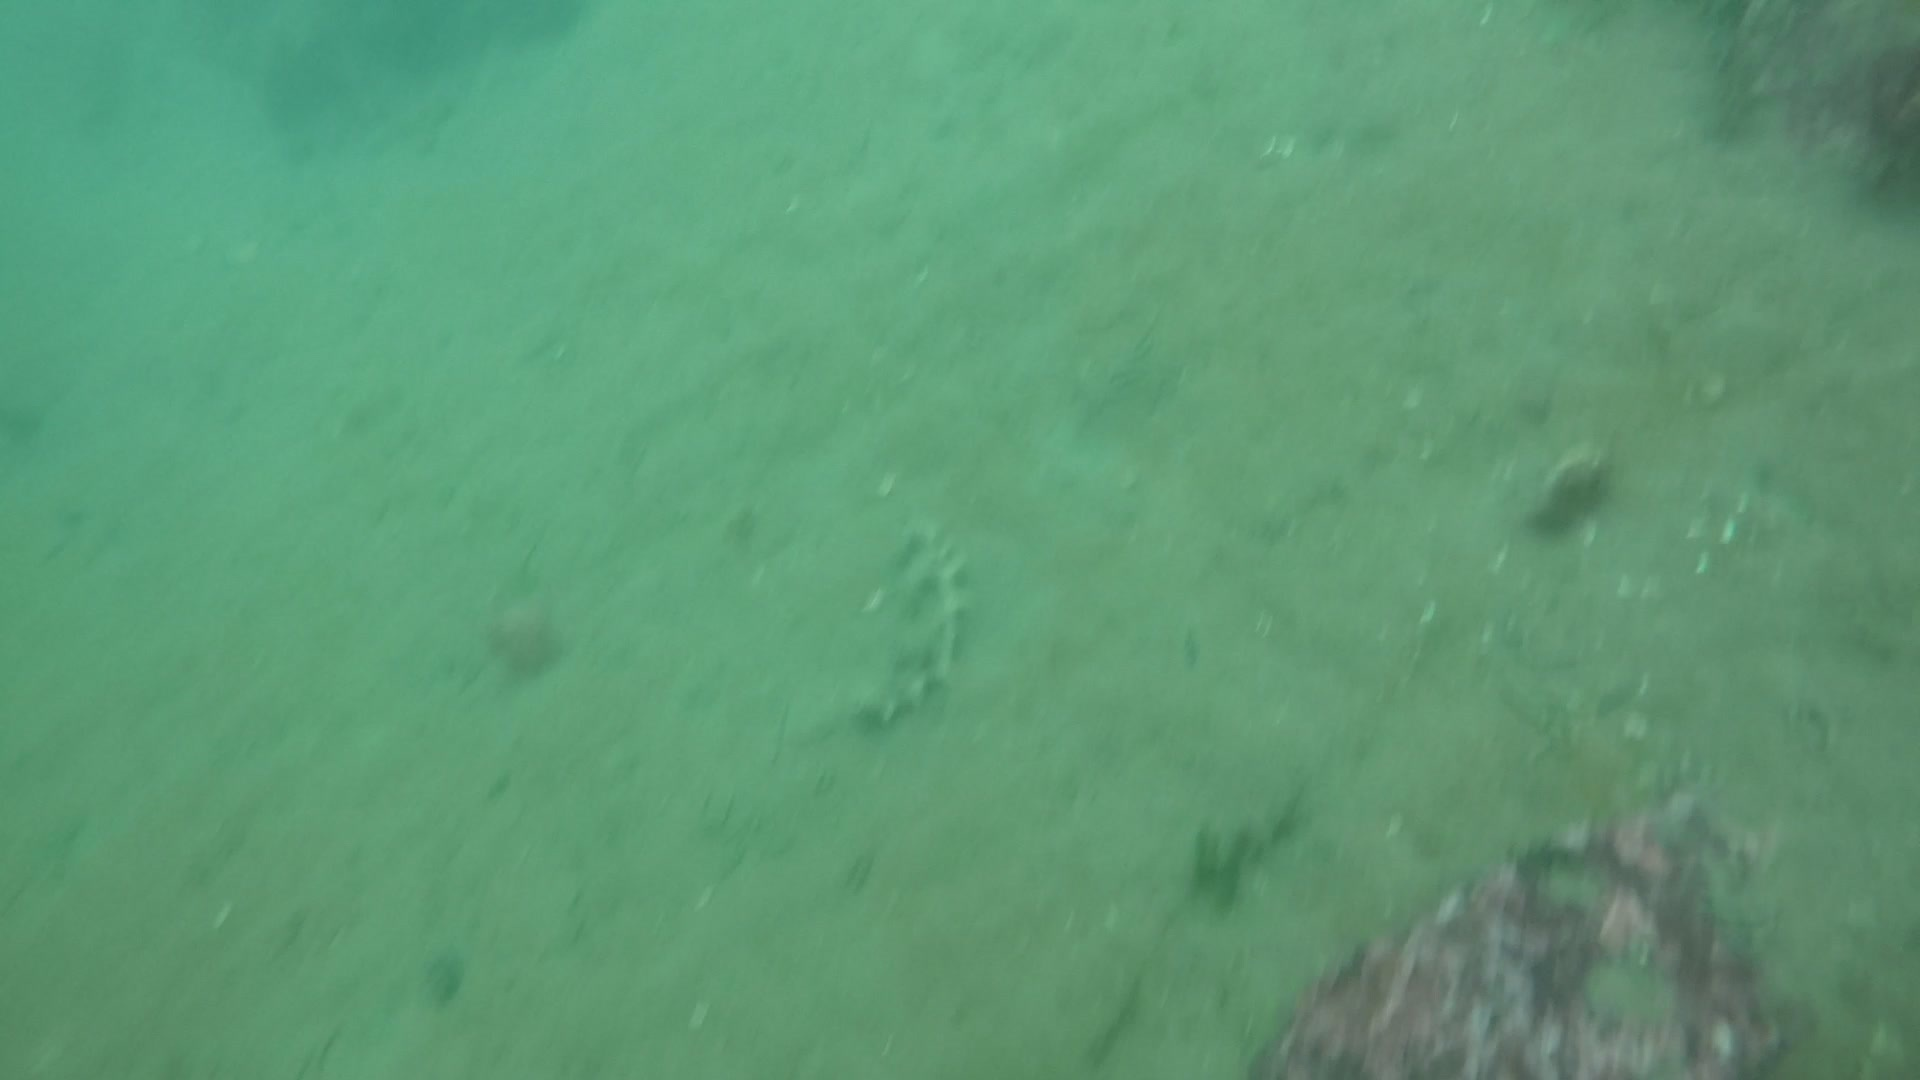holothurian: (847, 524, 973, 738)
